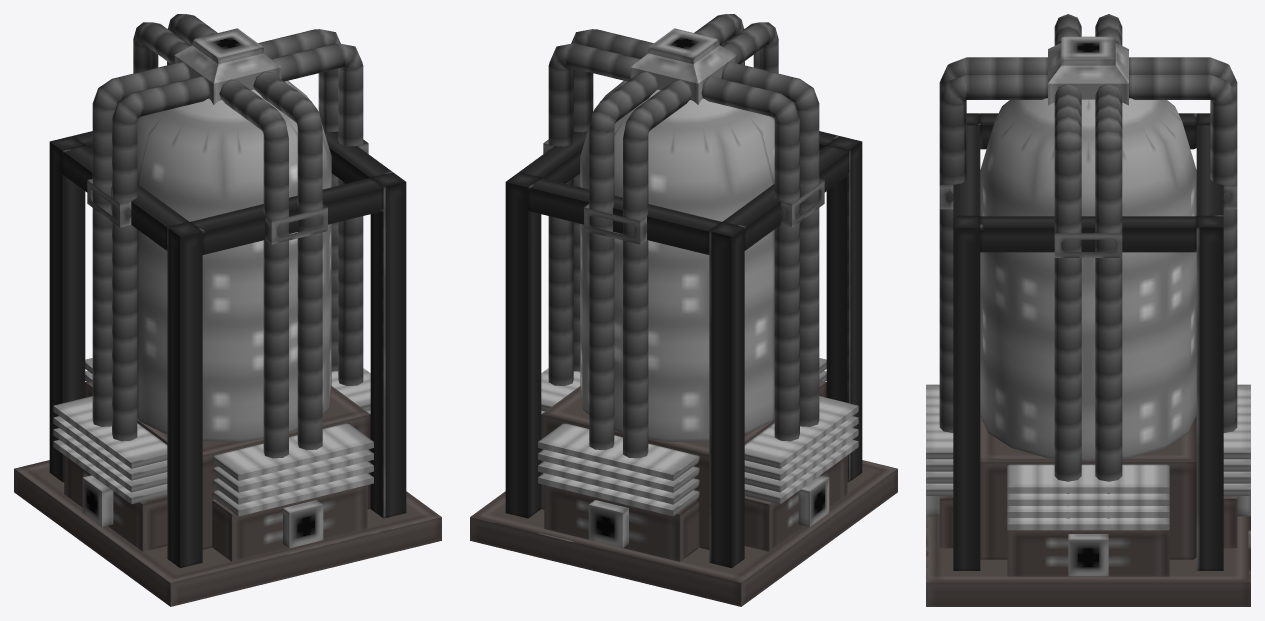
The model's file is industrial_boiler.obj.
3 renders of one model, left to right at view 1: azimuth 30°, elevation 25°; view 2: azimuth 150°, elevation 25°; view 3: azimuth 270°, elevation 25°, orthographic. The views are drawn at different scales.
Visible parts, largest first — view 1: Plane; view 2: Plane; view 3: Plane.
Boxes of the visible parts, x1,y1,x2,y2 form: Plane: (14, 14, 441, 606); Plane: (470, 14, 897, 606); Plane: (926, 14, 1250, 606).
Bounding box in the file's own units: 3 × 5 × 3.
